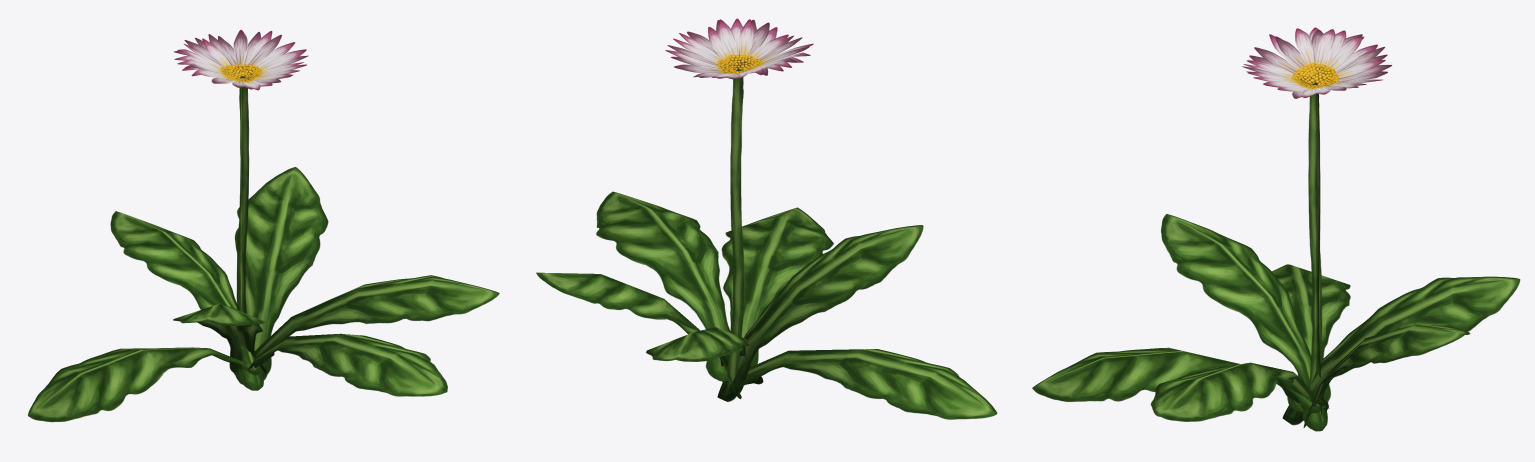
The model's file is daisy.glb.
3 renders of one model, left to right at view 1: azimuth 30°, elevation 25°; view 2: azimuth 150°, elevation 25°; view 3: azimuth 270°, elevation 25°, orthographic. The views are drawn at different scales.
Parts seen in each view (by area): view 1: Object_4; view 2: Object_4; view 3: Object_4.
Part boxes in pixels (x1,y1,x2,y2): Object_4: (28, 29, 499, 422); Object_4: (536, 18, 997, 419); Object_4: (1032, 27, 1520, 431).
Size of the model in its own units: 6.28 by 4.71 by 5.59.
Materials: 1 (1 with a texture image).
